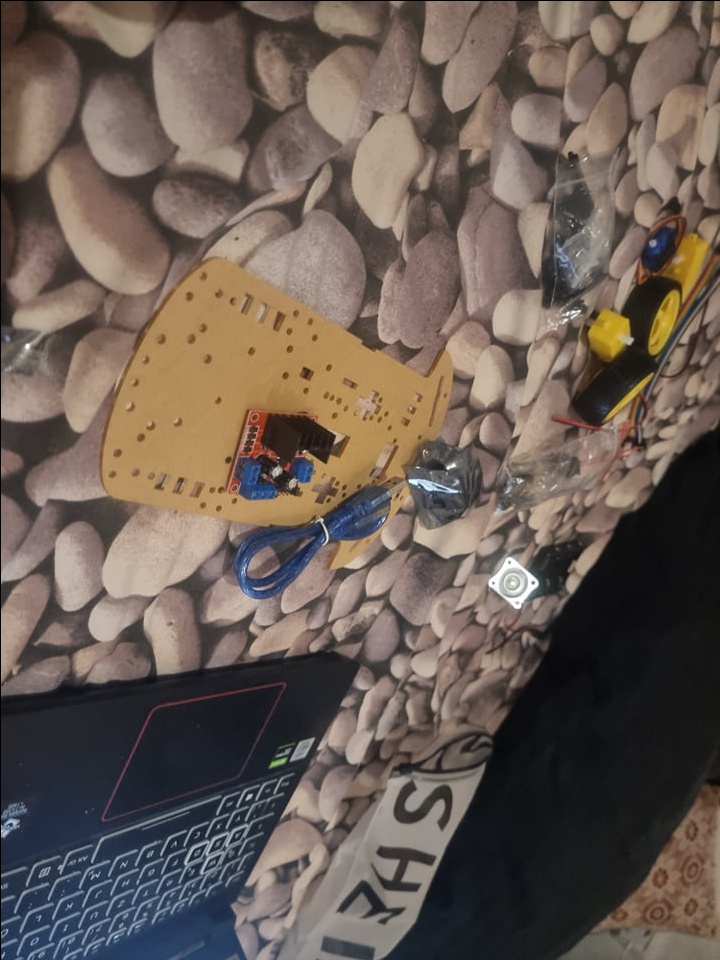BATTERY BOX: (533, 535, 588, 599)
MOTOR: (221, 403, 338, 499)
